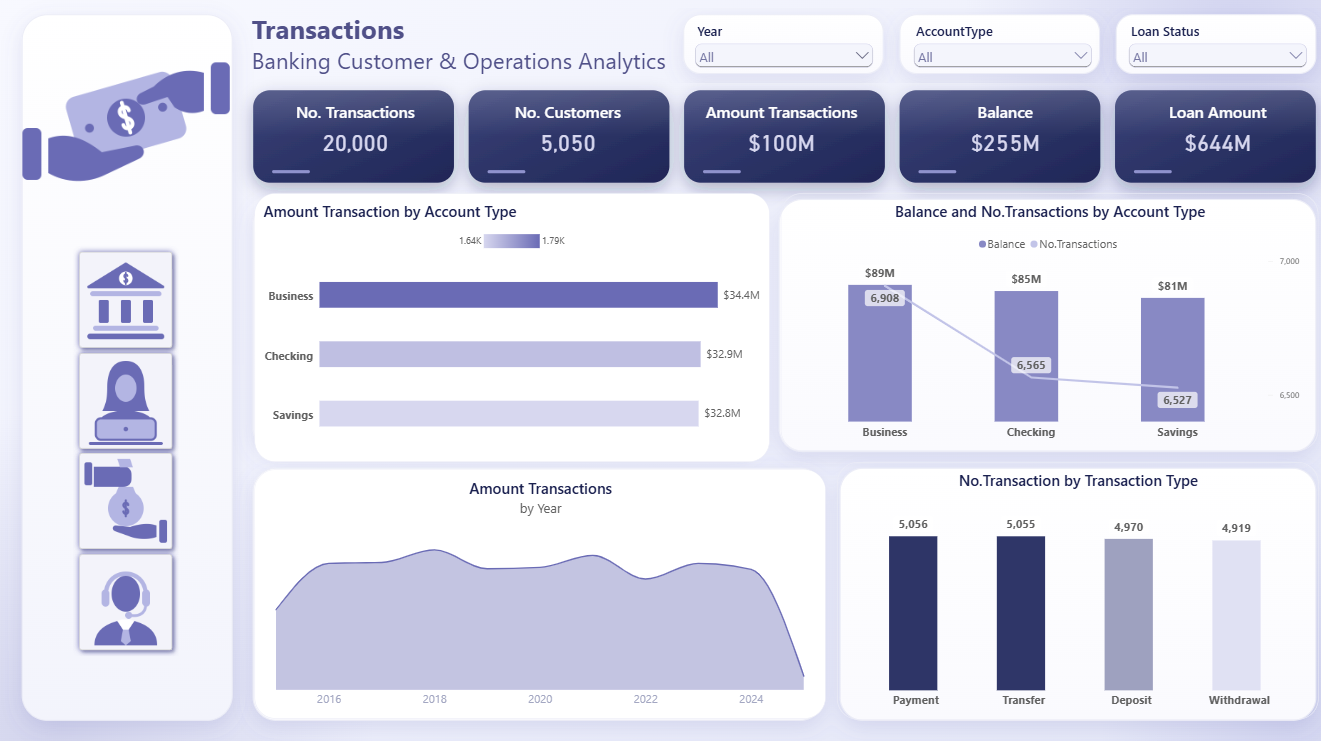

Layout of this report page (visuals, bound fields, positions):
{"tool":"powerbi","page":{"name":"Transactions","canvas":[1920,1080],"ordinal":2},"visuals":[{"type":"clusteredBarChart","title":"Amount Transaction by Account Type ","fields":{"Category":["Accounts.AccountType"],"Y":["Calculations Overview.Amount Transactions"]},"box":[368,288,736,384],"z":0},{"type":"image","box":[0,16,368,336],"z":1000},{"type":"actionButton","box":[96,496,175,175],"z":2000},{"type":"actionButton","box":[96,352,175,175],"z":3000},{"type":"actionButton","box":[96,640,175,175],"z":4000},{"type":"actionButton","box":[96,784,175,175],"z":5000},{"type":"lineClusteredColumnComboChart","title":"Balance and No.Transactions by Account Type","fields":{"Category":["Accounts.AccountType"],"Y":["Calculations Overview.Balance"],"Y2":["Calculations Overview.No.Transactions"]},"box":[1120,288,768,368],"z":6000},{"type":"lineChart","fields":{"Category":["DimDate.Year","DimDate.Quarter","DimDate.MonthName","DimDate.Day"],"Y":["Calculations Overview.Amount Transactions"]},"box":[368,682,816,356],"z":7000},{"type":"lineClusteredColumnComboChart","title":"No.Transaction by Transaction Type","fields":{"Category":["Transactions.TransactionType"],"Y":["Calculations Overview.No.Transactions"]},"box":[1200,672,688,368],"z":8000},{"type":"advanceCardE03760C5AB684758B56AA29F9E6C257B","title":"No. Transactions ","fields":{"mainMeasure":["Calculations Overview.No.Transactions"]},"box":[368,144,288,96],"z":9000},{"type":"advanceCardE03760C5AB684758B56AA29F9E6C257B","title":"No. Customers","fields":{"mainMeasure":["Calculations Overview.No.Customers"]},"box":[672,144,288,96],"z":10000},{"type":"advanceCardE03760C5AB684758B56AA29F9E6C257B","title":"Amount Transactions ","fields":{"mainMeasure":["Calculations Overview.Amount Transactions"]},"box":[976,144,288,96],"z":11000},{"type":"advanceCardE03760C5AB684758B56AA29F9E6C257B","title":"Balance","fields":{"mainMeasure":["Calculations Overview.Balance"]},"box":[1296,144,288,96],"z":12000},{"type":"advanceCardE03760C5AB684758B56AA29F9E6C257B","title":"Loan Amount","fields":{"mainMeasure":["Calculations Overview.Loan Amount"]},"box":[1600,144,288,96],"z":13000},{"type":"slicer","fields":{"Values":["Accounts.AccountType"]},"box":[1292,32,288,96],"z":14000},{"type":"slicer","fields":{"Values":["Loans.Loan Status"]},"box":[1600,32,288,96],"z":15000},{"type":"slicer","fields":{"Values":["DimDate.Year"]},"box":[980,32,288,96],"z":16000},{"type":"textbox","box":[352,16,864,112],"z":17000}]}

Visuals, with their boxes in screenshot pixels (x1, y1, x2, y2), scaled from the page's 1920x1080 canvas onto the 1321x741 screenshot:
"Amount Transaction by Account Type " clusteredBarChart: (253,198,760,461)
image: (0,11,253,242)
actionButton: (66,340,186,460)
actionButton: (66,242,186,362)
actionButton: (66,439,186,559)
actionButton: (66,538,186,658)
"Balance and No.Transactions by Account Type" lineClusteredColumnComboChart: (771,198,1299,450)
lineChart - DimDate.Year x DimDate.Quarter: (253,468,815,712)
"No.Transaction by Transaction Type" lineClusteredColumnComboChart: (826,461,1299,714)
"No. Transactions " advanceCardE03760C5AB684758B56AA29F9E6C257B: (253,99,451,165)
"No. Customers" advanceCardE03760C5AB684758B56AA29F9E6C257B: (462,99,660,165)
"Amount Transactions " advanceCardE03760C5AB684758B56AA29F9E6C257B: (672,99,870,165)
"Balance" advanceCardE03760C5AB684758B56AA29F9E6C257B: (892,99,1090,165)
"Loan Amount" advanceCardE03760C5AB684758B56AA29F9E6C257B: (1101,99,1299,165)
slicer - Accounts.AccountType: (889,22,1087,88)
slicer - Loans.Loan Status: (1101,22,1299,88)
slicer - DimDate.Year: (674,22,872,88)
textbox: (242,11,837,88)
